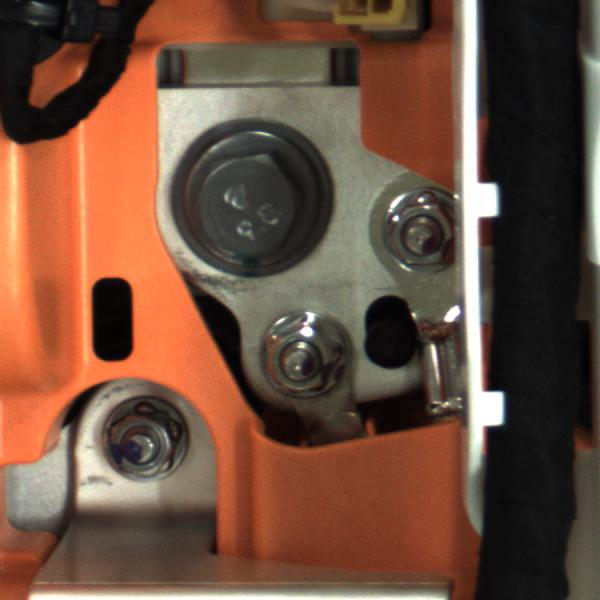screw_s: (370, 178, 459, 275), (249, 308, 348, 395), (96, 397, 184, 486)
